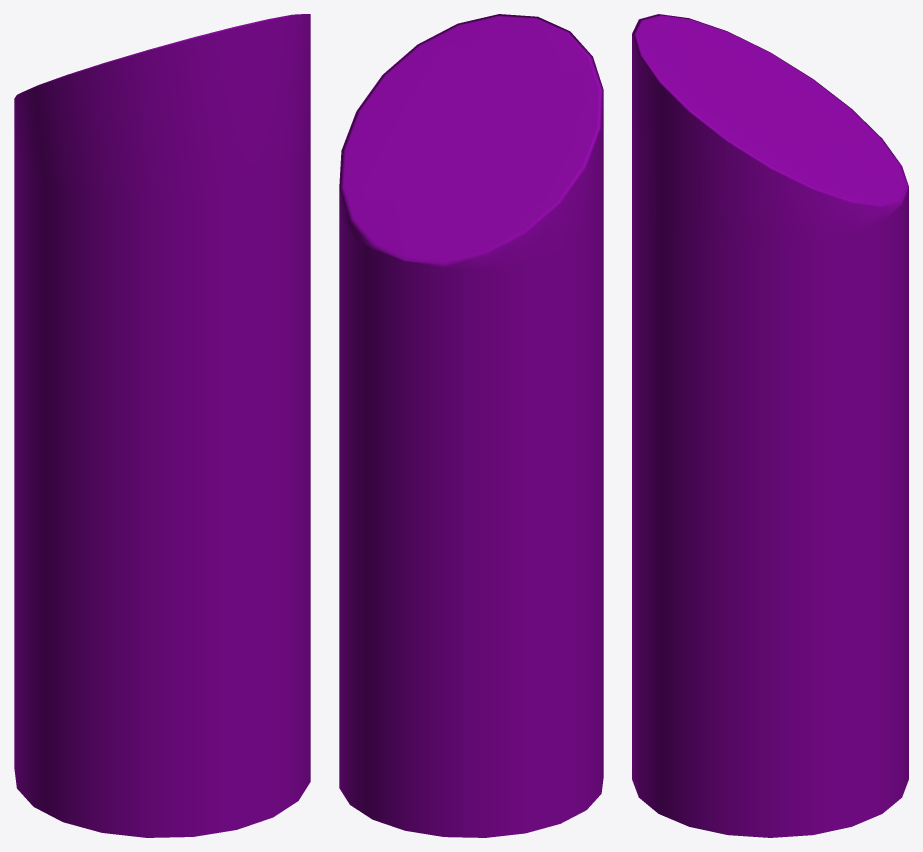
The model's file is SK_AmmoLiquid.fbx.
The picture shows the model from 3 angles, left to right: view 1: azimuth 30°, elevation 25°; view 2: azimuth 150°, elevation 25°; view 3: azimuth 270°, elevation 25°; orthographic projection. The views are drawn at different scales.
Parts seen in each view (by area): view 1: SK_AmmoLiquid_Base, SK_AmmoLiquid_Top; view 2: SK_AmmoLiquid_Base, SK_AmmoLiquid_Top; view 3: SK_AmmoLiquid_Base, SK_AmmoLiquid_Top.
Boxes of the visible parts, box(x1,y1,x2,y2) form: SK_AmmoLiquid_Base: box(14, 132, 310, 837); SK_AmmoLiquid_Top: box(14, 14, 310, 200); SK_AmmoLiquid_Base: box(339, 209, 603, 837); SK_AmmoLiquid_Top: box(339, 14, 603, 268); SK_AmmoLiquid_Base: box(632, 187, 908, 837); SK_AmmoLiquid_Top: box(632, 14, 908, 245).
Size of the model in its own units: 4.24 by 12.59 by 4.24.
